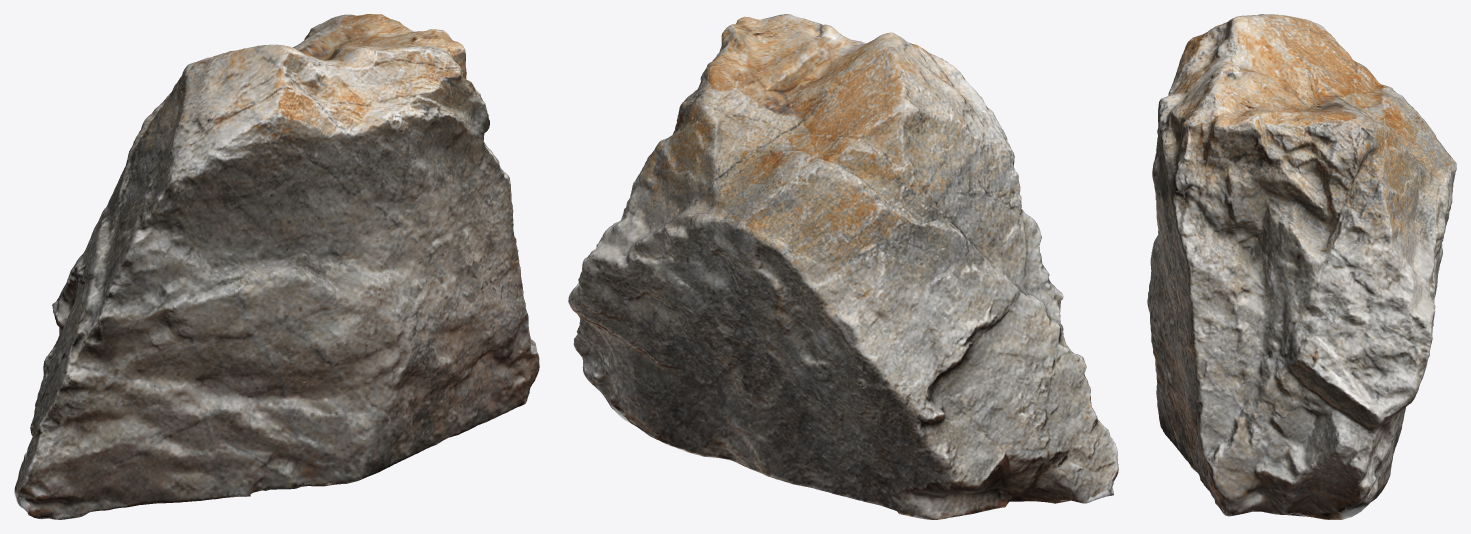
The model's file is sparse1.glb.
3 views of the same model, side by side, from view 1: azimuth 30°, elevation 25°; view 2: azimuth 150°, elevation 25°; view 3: azimuth 270°, elevation 25° (orthographic). The views are drawn at different scales.
Parts seen in each view (by area): view 1: Node; view 2: Node; view 3: Node.
Boxes of the visible parts, x1,y1,x2,y2 form: Node: [14, 14, 539, 519]; Node: [568, 14, 1118, 519]; Node: [1147, 14, 1456, 519].
Bounding box in the file's own units: 3.48 × 2.7 × 1.87.
Materials: 1 (1 with a texture image).
